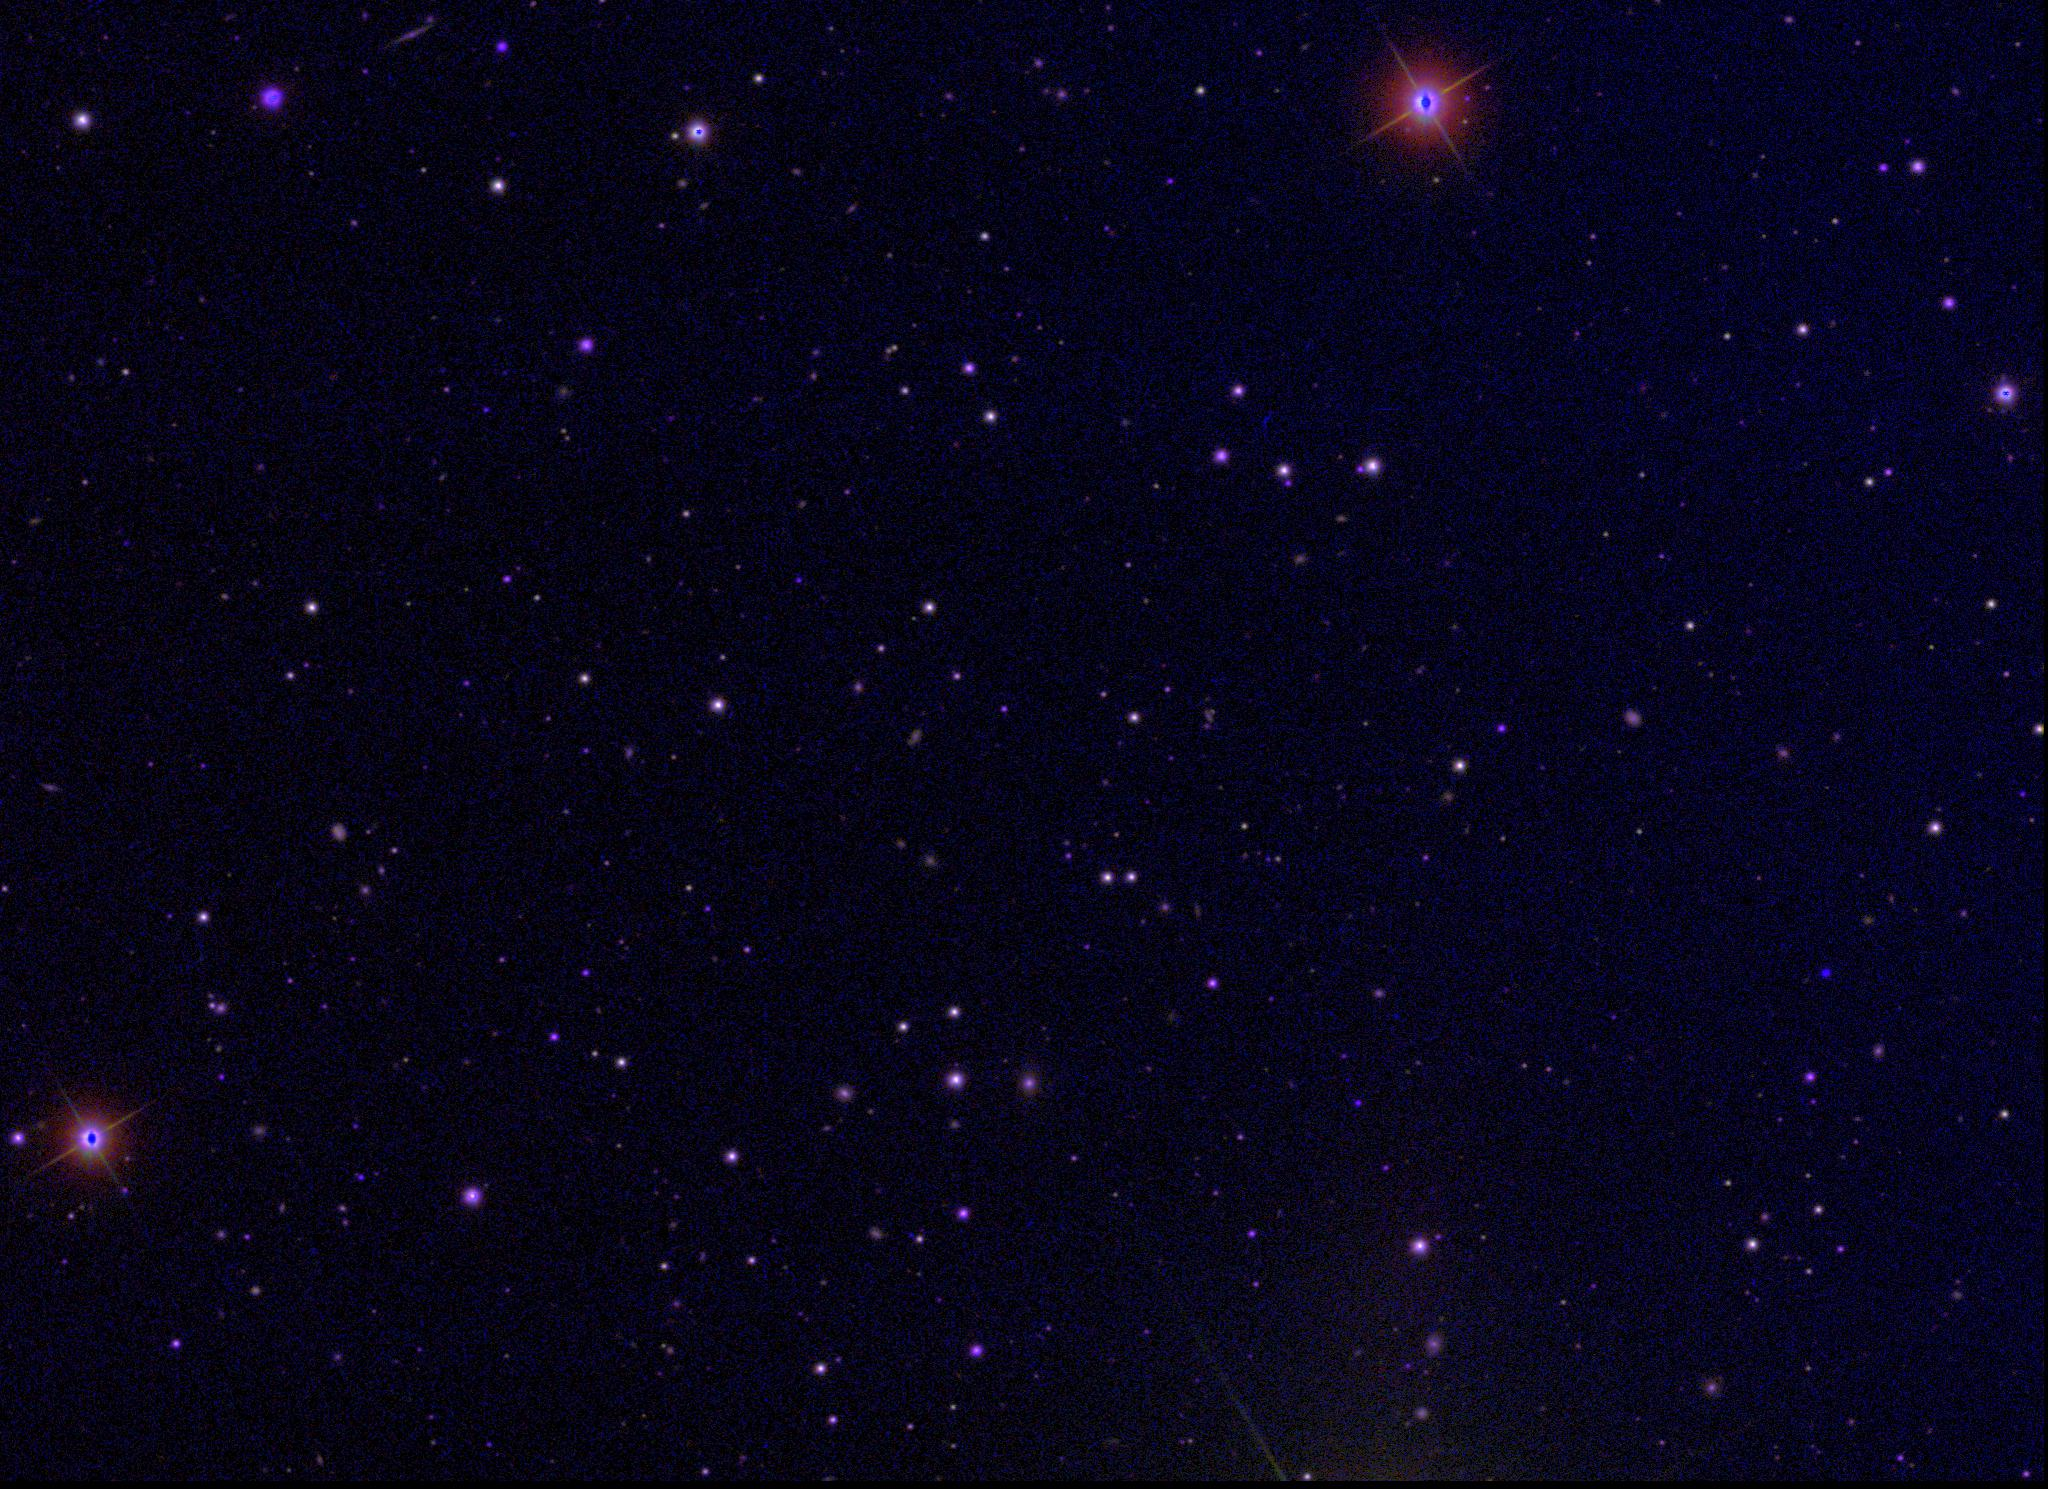L: (1819, 967, 1833, 982)
